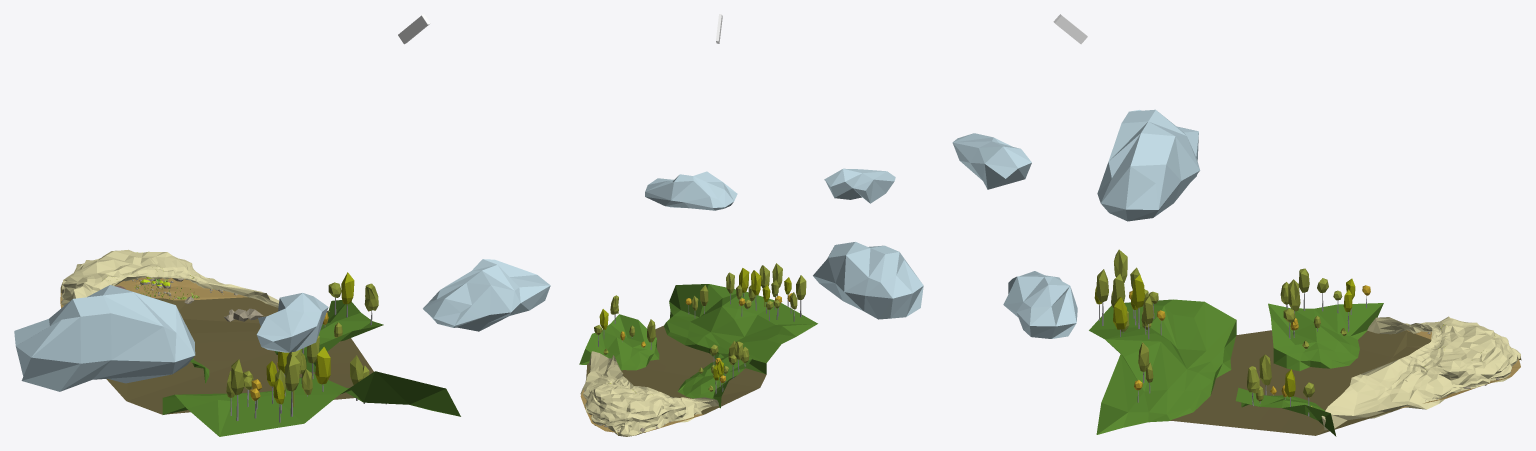
The model's file is cave_binary_test.fbx.
The picture shows the model from 3 angles, left to right: view 1: azimuth 30°, elevation 25°; view 2: azimuth 150°, elevation 25°; view 3: azimuth 270°, elevation 25°; orthographic projection. The views are drawn at different scales.
Visible parts, largest first — view 1: hill, flor, cave, grass; view 2: hill, cave, flor; view 3: hill, cave, flor.
Boxes of the visible parts, left/top/right/bottom form: hill: left=14, top=259, right=550, bottom=436; flor: left=60, top=277, right=373, bottom=414; cave: left=61, top=249, right=329, bottom=313; grass: left=61, top=252, right=263, bottom=321; hill: left=579, top=168, right=923, bottom=408; cave: left=580, top=351, right=718, bottom=436; flor: left=580, top=326, right=766, bottom=436; hill: left=952, top=109, right=1383, bottom=436; cave: left=1321, top=316, right=1520, bottom=430; flor: left=1170, top=330, right=1521, bottom=435.
Size of the model in its own units: 16144 by 14356 by 18761.
